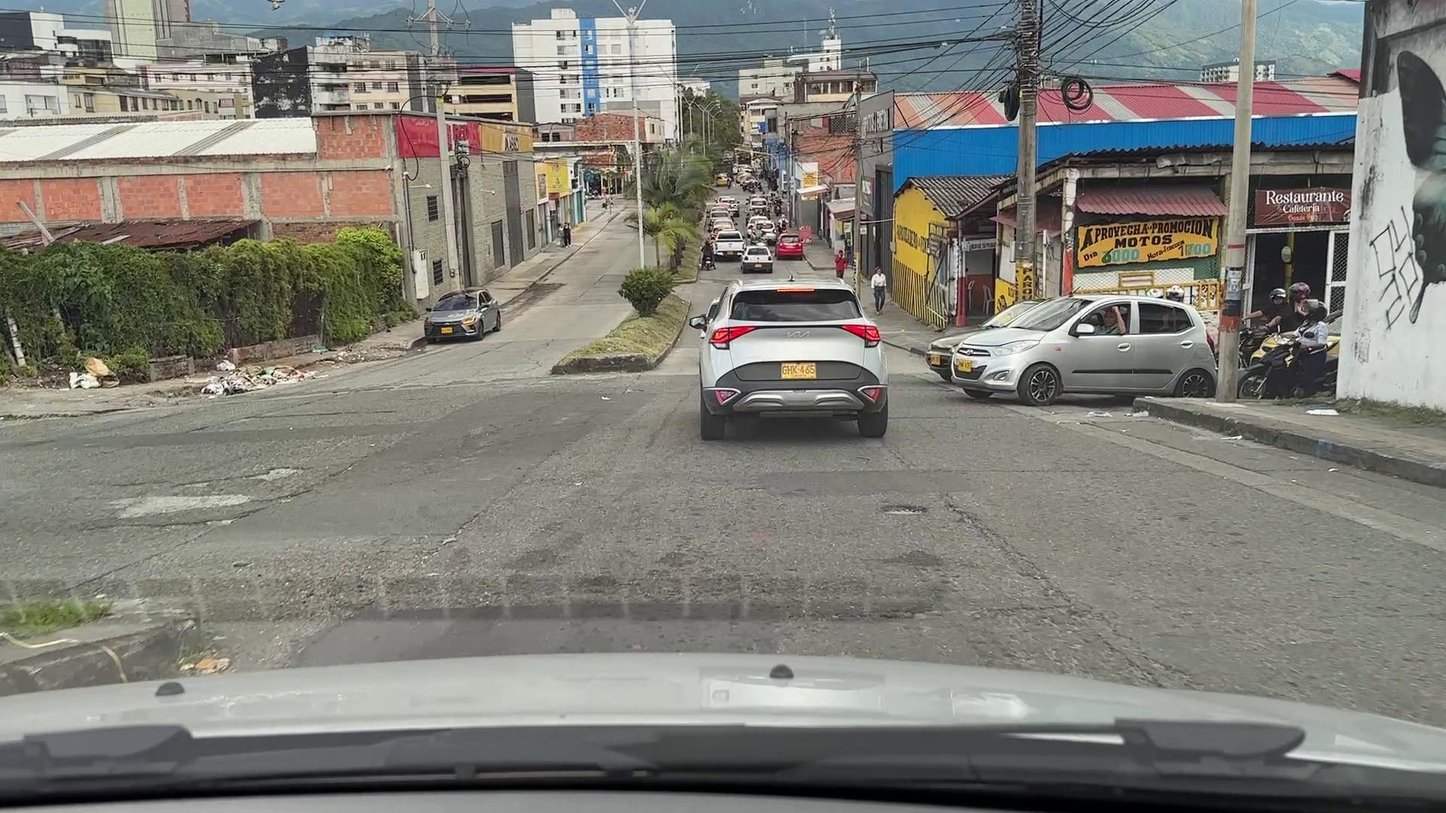bache: (108, 493, 254, 517), (239, 468, 311, 482), (171, 478, 230, 488), (880, 504, 928, 516)
grieta: (943, 491, 1206, 692)
